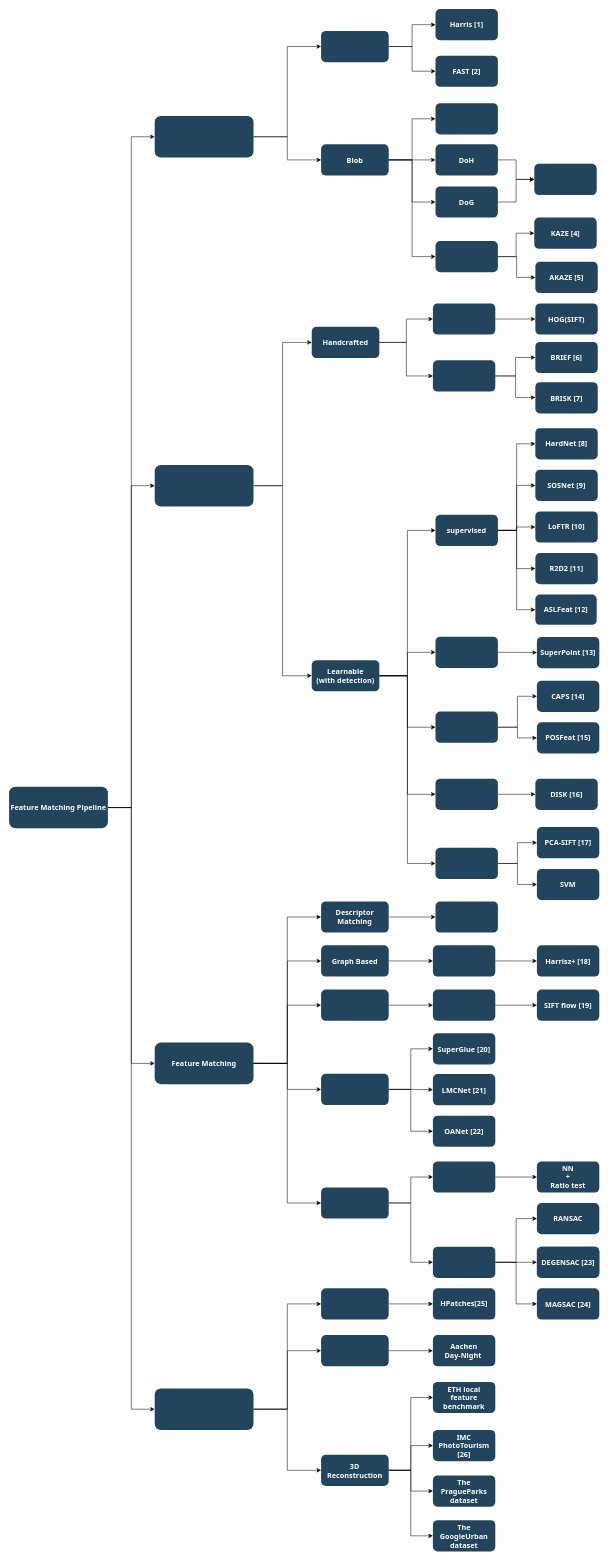
The diagram is 608 pixels wide and 1560 high, and some of its shapes have lost their labels. The shapes that lost their labels are listed below. From the top down, each one's centre as x and y in pixels, then its label:
point (354, 46): Corner
point (203, 136): Feature Detection
point (466, 118): LoG
point (565, 179): SIFT [3]
point (466, 256): Non linear partial differention
point (464, 318): Gradient
point (464, 375): Intensity
point (203, 485): Feature Description
point (466, 652): self supervised
point (466, 727): weakly supervised
point (466, 794): Reinfore Learning
point (466, 863): Classic
point (466, 916): Matching Score (BF)
point (464, 960): Delaunay Triangulation
point (354, 1004): Area Based
point (464, 1004): Dense Matching
point (354, 1089): Learning Based
point (464, 1176): Nearest Neighbor
point (354, 1202): Matching Removal
point (464, 1262): RANSAC like
point (354, 1303): Image Matching
point (354, 1350): Visual Localization
point (203, 1409): Matching Application
